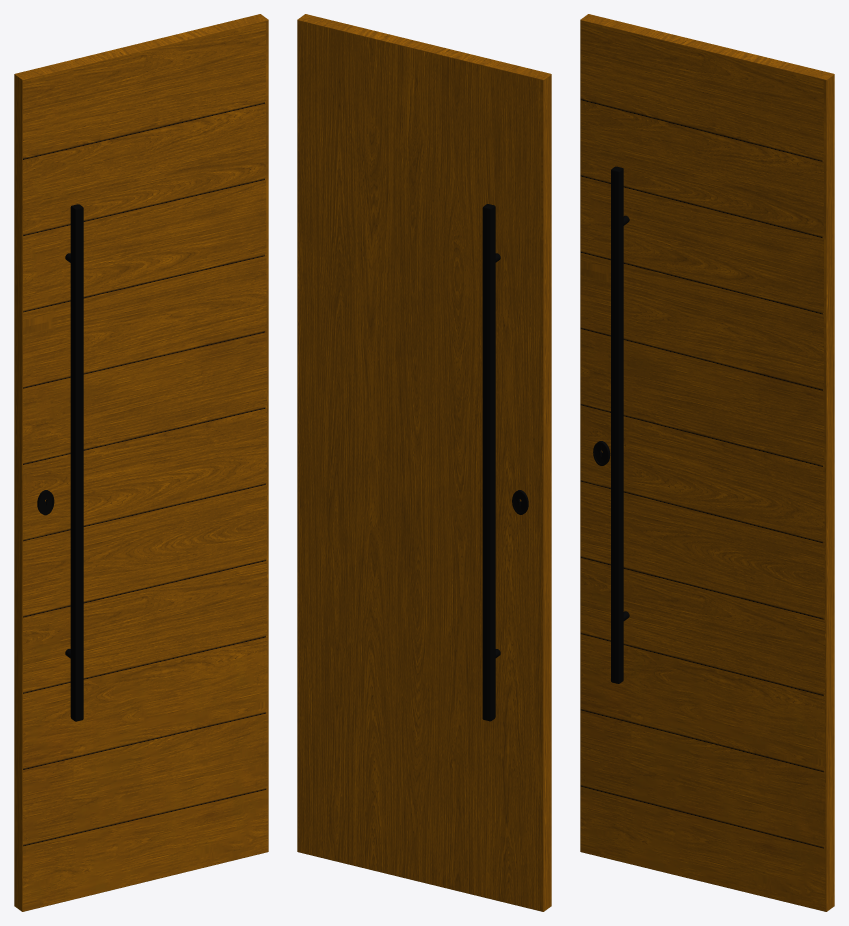
The model's file is VL_15_3b_door.glb.
3 views of the same model, side by side, from view 1: azimuth 30°, elevation 25°; view 2: azimuth 150°, elevation 25°; view 3: azimuth 330°, elevation 25° (orthographic).
Visible parts, largest first — view 1: V_L_15__3b_door; view 2: V_L_15__3b_door; view 3: V_L_15__3b_door.
Part boxes in pixels (left/top/right/bottom): V_L_15__3b_door: left=14, top=14, right=268, bottom=911; V_L_15__3b_door: left=297, top=14, right=551, bottom=911; V_L_15__3b_door: left=580, top=14, right=834, bottom=911.
Bounding box in the file's own units: 0.5514 × 1.78 × 0.1191.
1 material, 1 textured.
